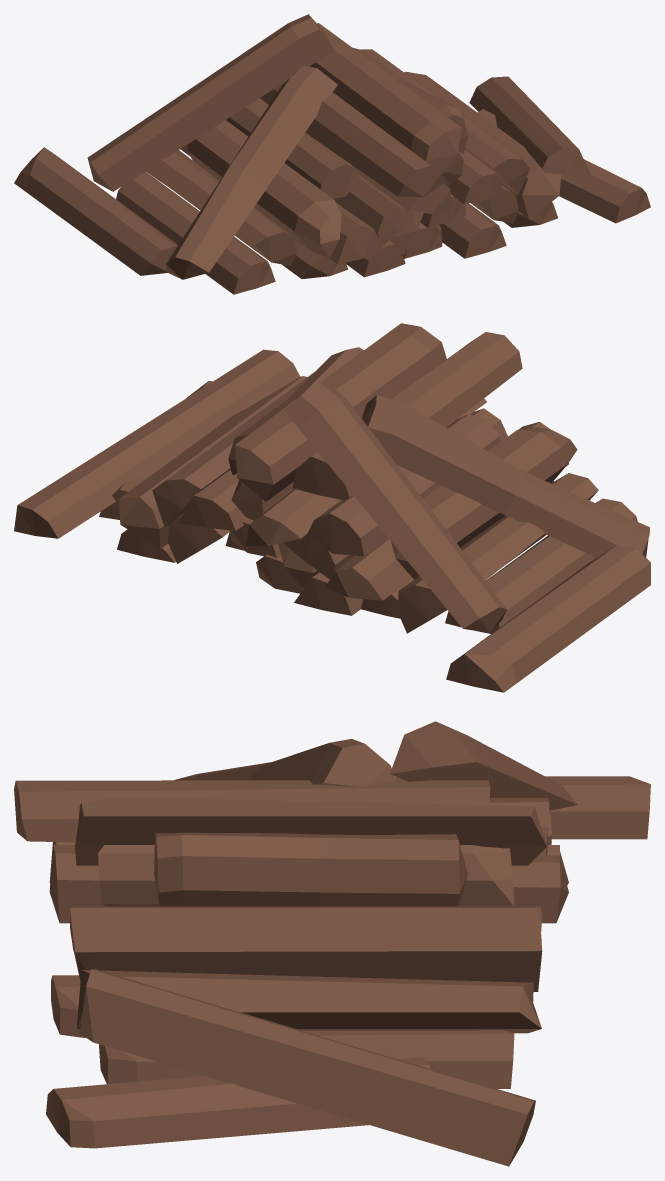
3 views of the same model, one above another, from view 1: azimuth 30°, elevation 25°; view 2: azimuth 150°, elevation 25°; view 3: azimuth 270°, elevation 25° (orthographic). The views are drawn at different scales.
Visible parts, largest first — view 1: chaidui1; view 2: chaidui1; view 3: chaidui1.
Part boxes in pixels (x1,y1,x2,y2): chaidui1: [14, 14, 650, 294]; chaidui1: [14, 323, 650, 692]; chaidui1: [14, 721, 650, 1166].
Size of the model in its own units: 139 by 47.66 by 106.
